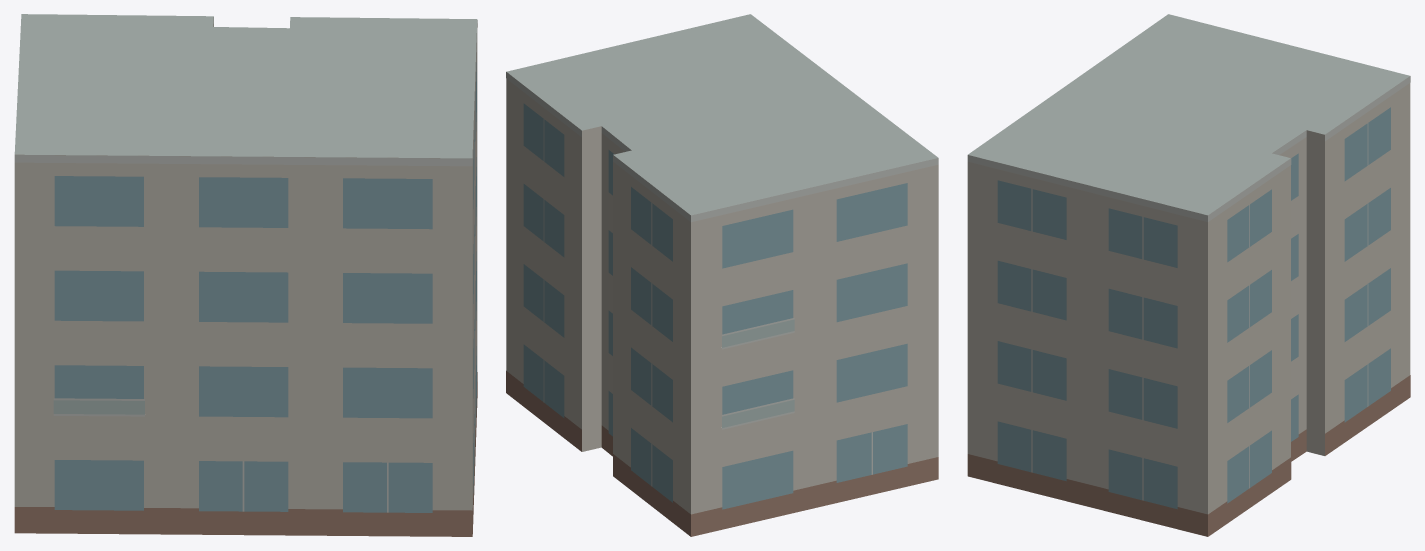
Rendered from survey-upis-32880187.glb.
3 renders of one model, left to right at view 1: azimuth 30°, elevation 25°; view 2: azimuth 150°, elevation 25°; view 3: azimuth 270°, elevation 25°, orthographic. The views are drawn at different scales.
Parts seen in each view (by area): view 1: survey-upis-32880187.tmp; view 2: survey-upis-32880187.tmp; view 3: survey-upis-32880187.tmp.
Boxes of the visible parts, left/top/right/bottom form: survey-upis-32880187.tmp: left=14, top=14, right=477, bottom=536; survey-upis-32880187.tmp: left=506, top=14, right=938, bottom=536; survey-upis-32880187.tmp: left=967, top=14, right=1410, bottom=536.
Size of the model in its own units: 15.6 by 11.6 by 14.49.
